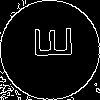E: (25, 25, 72, 60)
